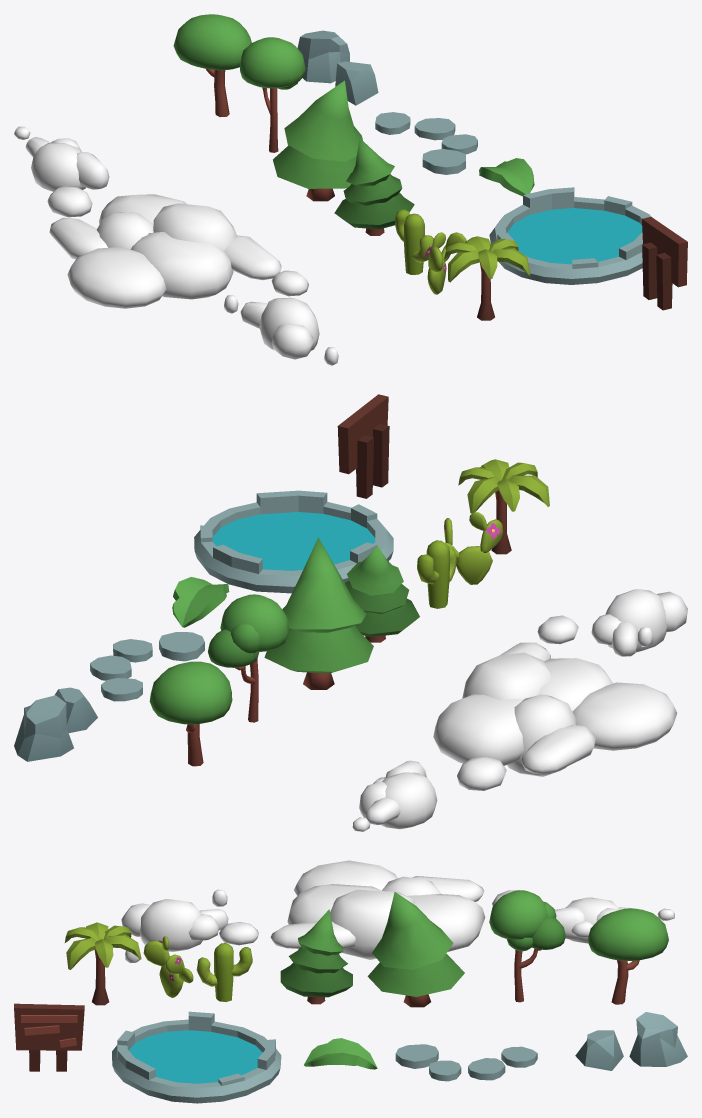
The model's file is NatureMeshLibrary.fbx.
3 views of the same model, one above another, from view 1: azimuth 30°, elevation 25°; view 2: azimuth 150°, elevation 25°; view 3: azimuth 270°, elevation 25° (orthographic). The views are drawn at different scales.
Visible parts, largest first — view 1: Cloud02, Pool, TreeSharp02, TreeSharp01, Tree02, Cloud03, Cloud01, Tree01, Sign, RoadStones, Palm, Rock02 (+4 smaller); view 2: Cloud02, Pool, TreeSharp02, Tree01, Tree02, Cloud03, TreeSharp01, Cloud01, Sign, RoadStones, Palm, Rock02 (+4 smaller); view 3: Cloud02, Pool, TreeSharp02, Cloud03, Tree02, Tree01, TreeSharp01, Sign, RoadStones, Palm, Rock02, Cloud01 (+4 smaller).
Boxes of the visible parts, x1,y1,x2,y2 form: Cloud02: (47,186,308,308); Pool: (489,187,651,284); TreeSharp02: (273,80,362,201); TreeSharp01: (334,138,414,235); Tree02: (173,14,251,116); Cloud03: (224,295,338,365); Cloud01: (14,126,109,191); Tree01: (239,37,305,152); Sign: (642,216,687,310); RoadStones: (375,112,477,174); Palm: (444,236,530,320); Rock02: (297,30,349,83); Cloud02: (433,615,676,790); Pool: (194,490,393,593); TreeSharp02: (264,537,373,689); Tree01: (208,594,289,722); Tree02: (149,661,232,766); Cloud03: (591,589,687,656); TreeSharp01: (345,545,419,642); Cloud01: (352,760,437,831); Sign: (337,394,389,498); RoadStones: (90,632,204,701); Palm: (458,459,549,554); Rock02: (14,695,73,761); Cloud02: (219,860,516,959); Pool: (112,1011,281,1103); TreeSharp02: (367,892,464,1007); Cloud03: (121,889,228,962); Tree02: (587,908,668,1004); Tree01: (489,890,565,1002); TreeSharp01: (280,909,352,1004); Sign: (14,1003,84,1071); RoadStones: (395,1044,537,1081); Palm: (64,922,141,1005); Rock02: (629,1012,687,1066); Cloud01: (555,897,674,943).
Size of the model in its own units: 4149 by 1221 by 5082.
Materials: 1 (1 with a texture image).
